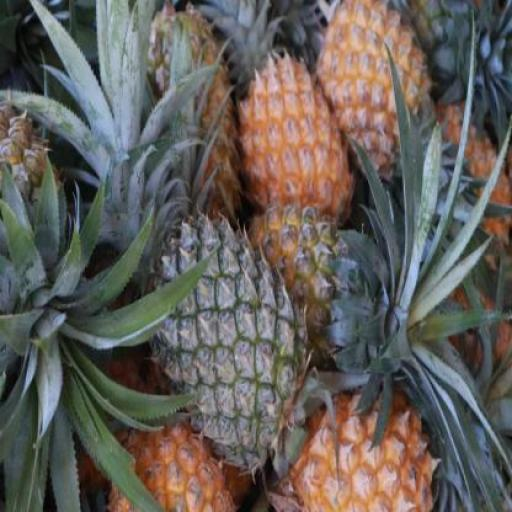Pineapple - v8 v1: (319, 0, 432, 196), (236, 64, 351, 244), (284, 390, 438, 512)
